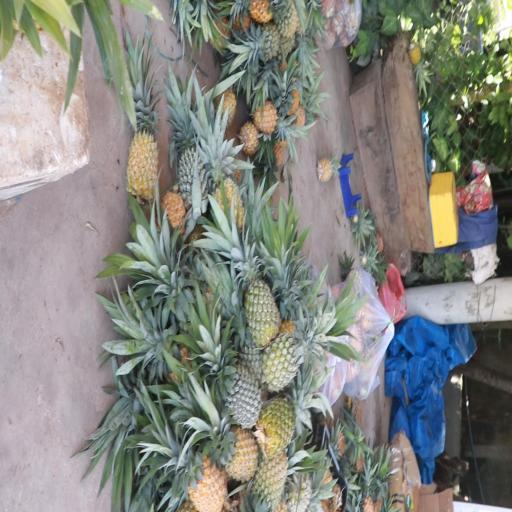------------------------------: (239, 248, 282, 348), (261, 324, 304, 396), (253, 398, 301, 452), (248, 454, 291, 508)
Pineapple - v8 v1: (164, 446, 226, 512), (204, 413, 258, 488), (128, 92, 156, 207), (160, 185, 186, 270), (249, 92, 282, 135), (237, 116, 261, 156), (313, 157, 342, 183)
